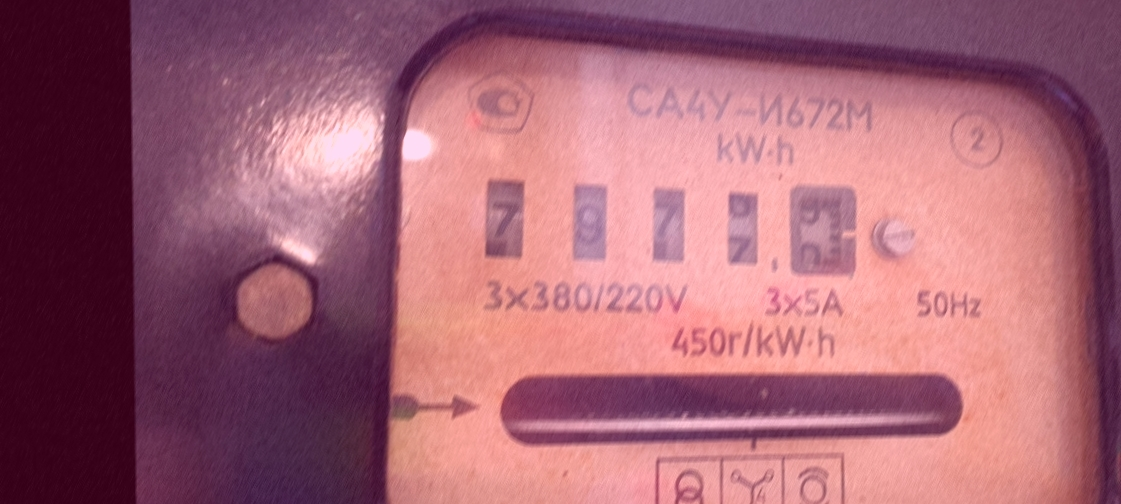0: (797, 239, 820, 268)
7: (486, 197, 520, 242), (724, 227, 754, 269), (651, 199, 680, 240)
9: (572, 200, 603, 248), (795, 195, 825, 228)
screen: (469, 163, 872, 294)
